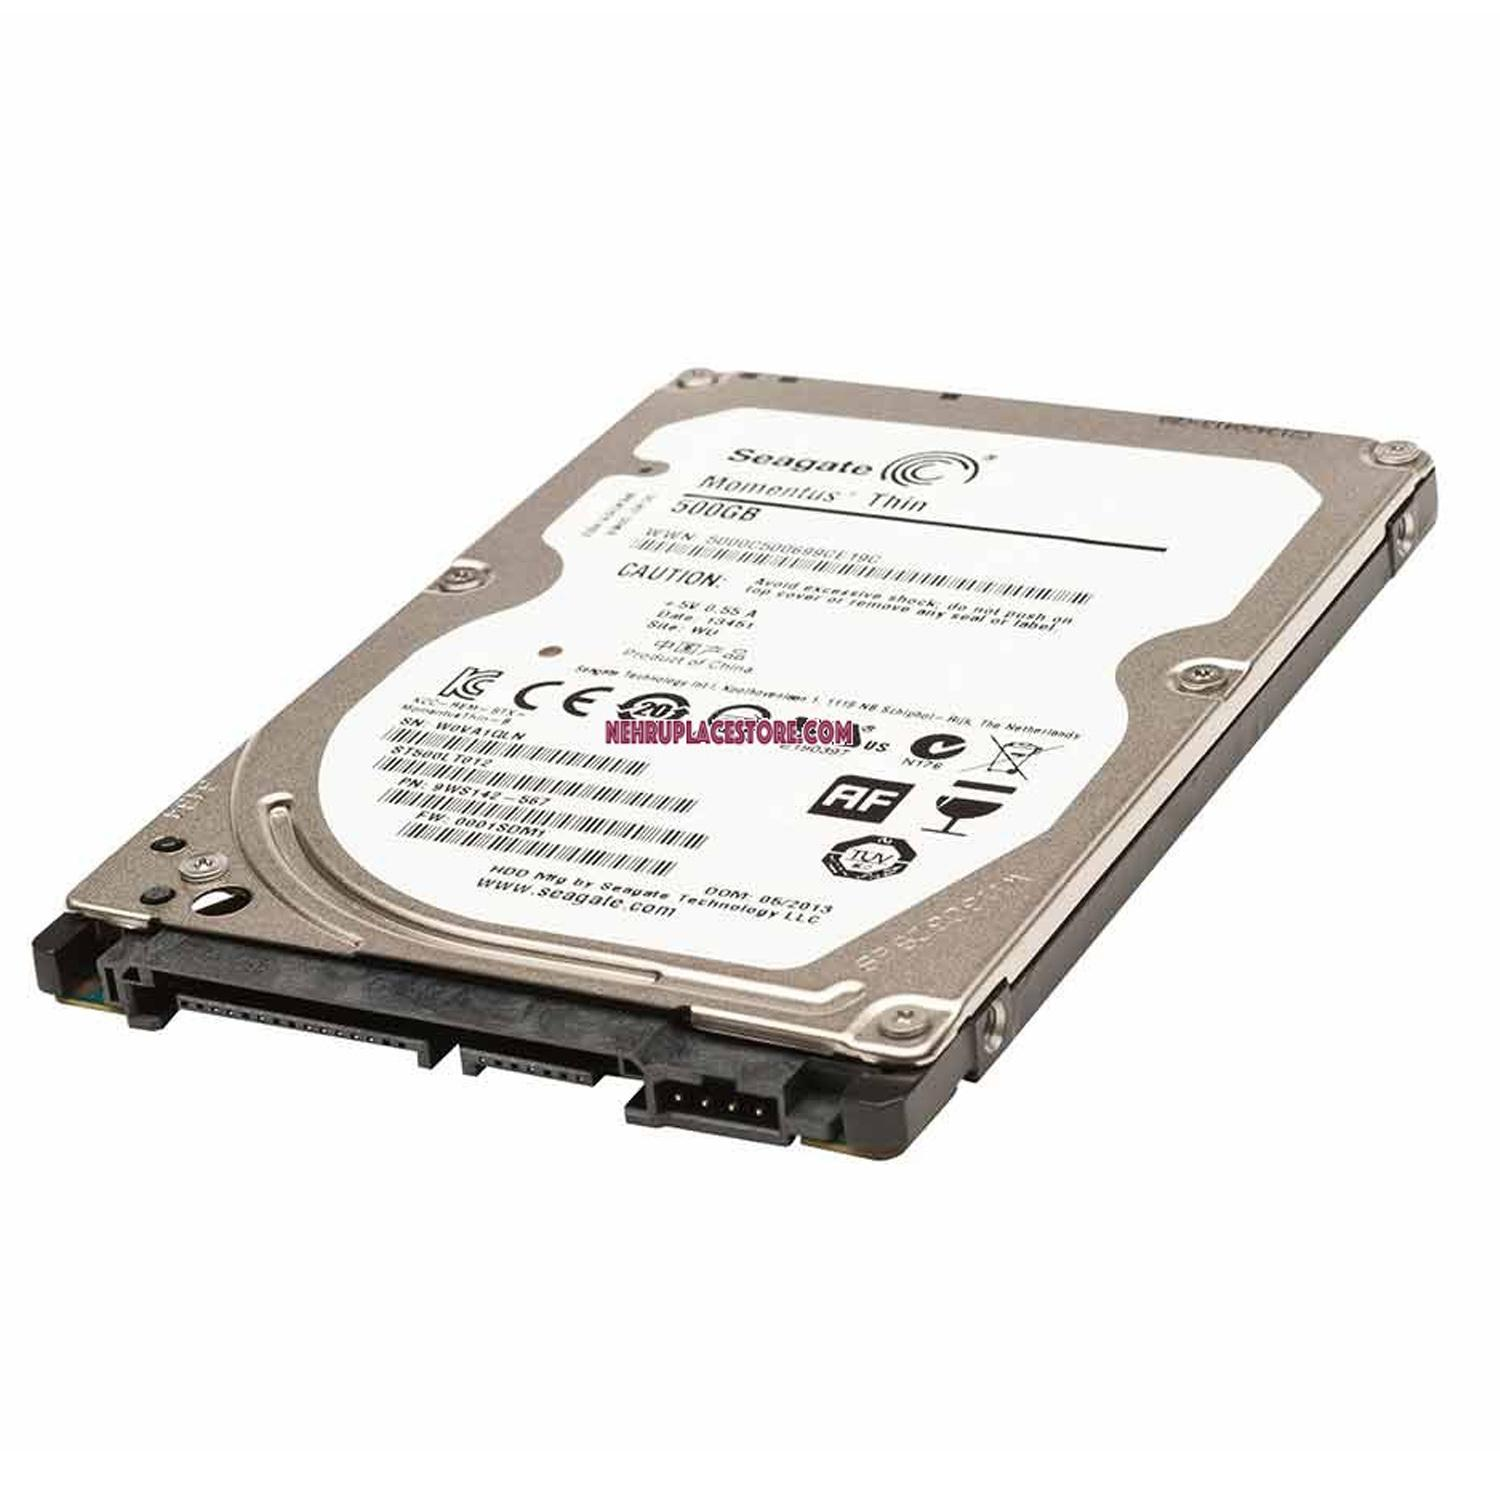internal HDD: (32, 368, 1445, 1168)
